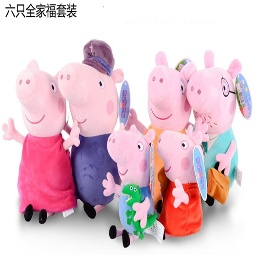Peppa: (156, 128, 209, 237)
